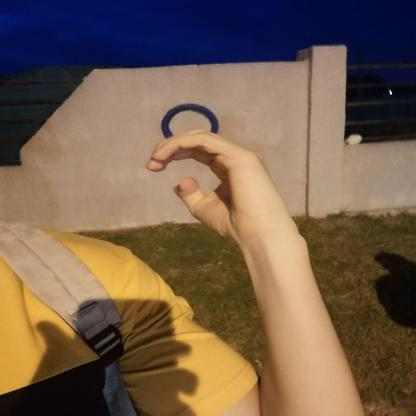JEEM: (132, 119, 309, 249)
